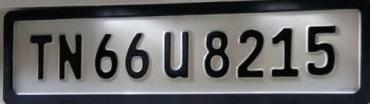1: (268, 25, 299, 77)
2: (236, 28, 265, 79)
5: (304, 23, 337, 79)
6: (123, 30, 151, 80), (93, 32, 118, 80)
8: (203, 28, 229, 78)
N: (57, 31, 84, 80)
T: (27, 32, 52, 81)
U: (160, 30, 191, 81)
